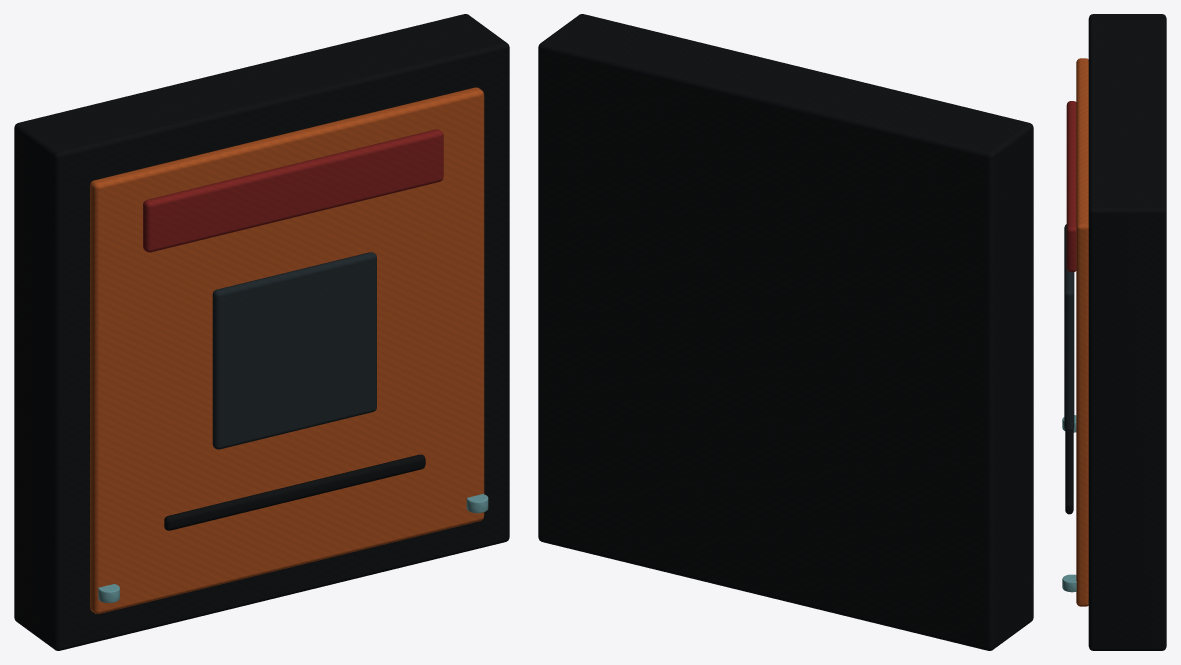
The model's file is HazardPlacard.fbx.
3 views of the same model, side by side, from view 1: azimuth 30°, elevation 25°; view 2: azimuth 150°, elevation 25°; view 3: azimuth 270°, elevation 25° (orthographic). The views are drawn at different scales.
Parts seen in each view (by area): view 1: HazardPlacard_Mesh; view 2: HazardPlacard_Mesh; view 3: HazardPlacard_Mesh.
Part boxes in pixels (<box>): HazardPlacard_Mesh: <box>14,14,509,650</box>; HazardPlacard_Mesh: <box>538,14,1033,650</box>; HazardPlacard_Mesh: <box>1062,14,1166,650</box>.
Size of the model in its own units: 84 by 88 by 18.75.
Materials: 5 (5 with a texture image).
